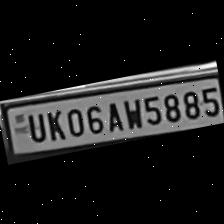0: (60, 103, 88, 138)
5: (196, 81, 222, 119), (138, 92, 164, 128)
6: (80, 100, 106, 135)
8: (158, 88, 184, 124), (178, 86, 202, 122)
A: (101, 98, 125, 134)
K: (42, 106, 68, 142)
U: (21, 109, 48, 145)
W: (119, 94, 144, 131)
